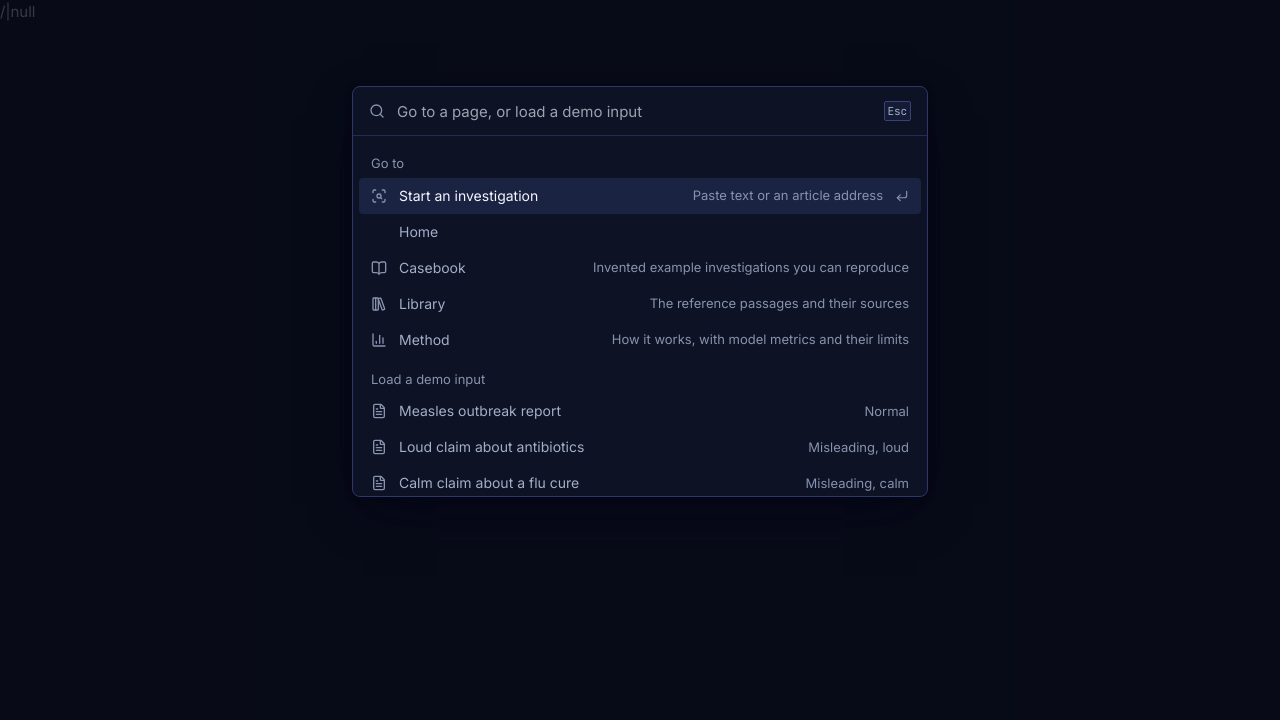
Scenario: CommandPalette › filters, runs the highlighted command with Enter and closes
In the dropdown named "Search destinations and actions": (634, 111) [397,87,872,135], type "sourdough"
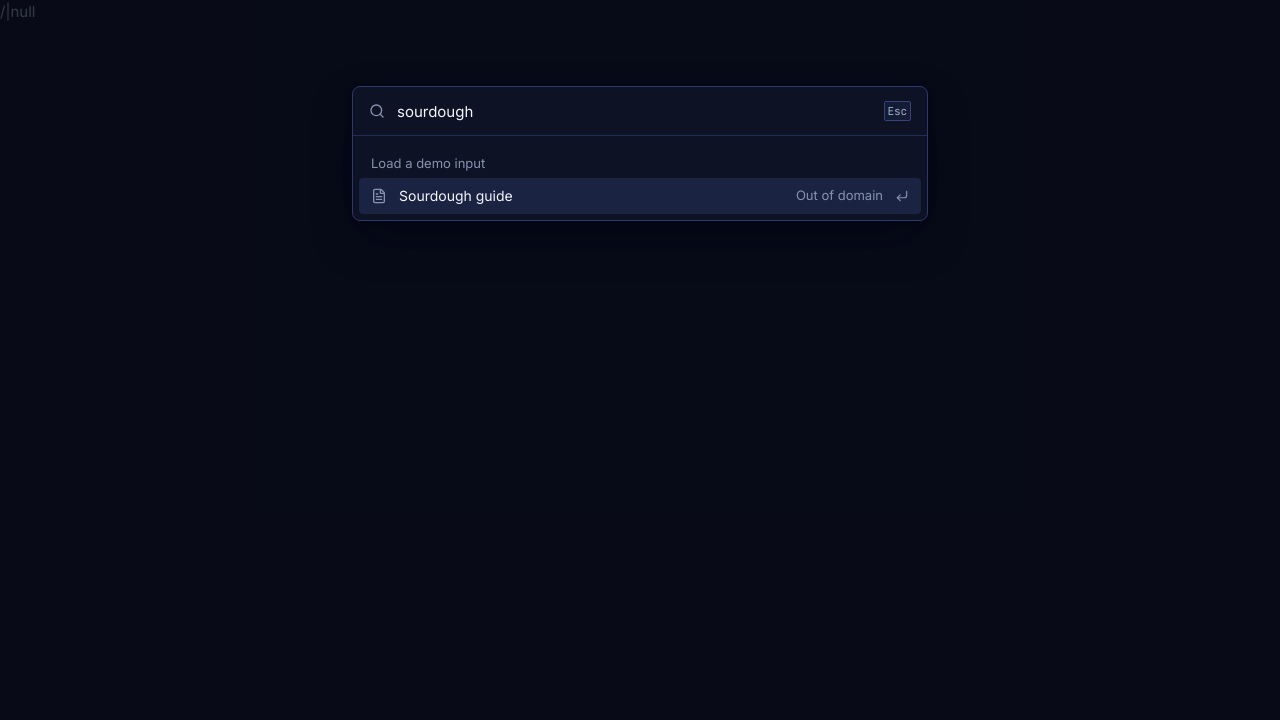
Check: the number of options is 1, box [359,178,921,214]
Press Enter
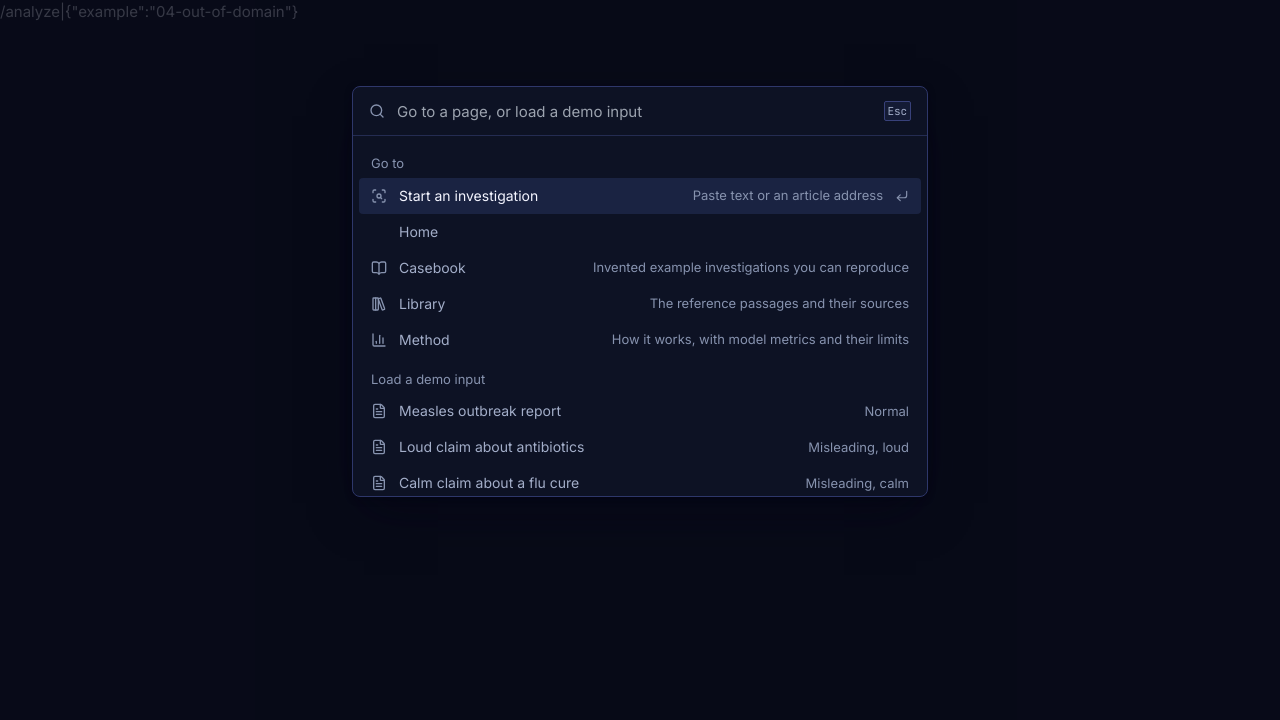
Check: the text with test id "where" reads "/analyze|{\"example\":\"04-out-of-domain\"}", box [0,2,298,21]
